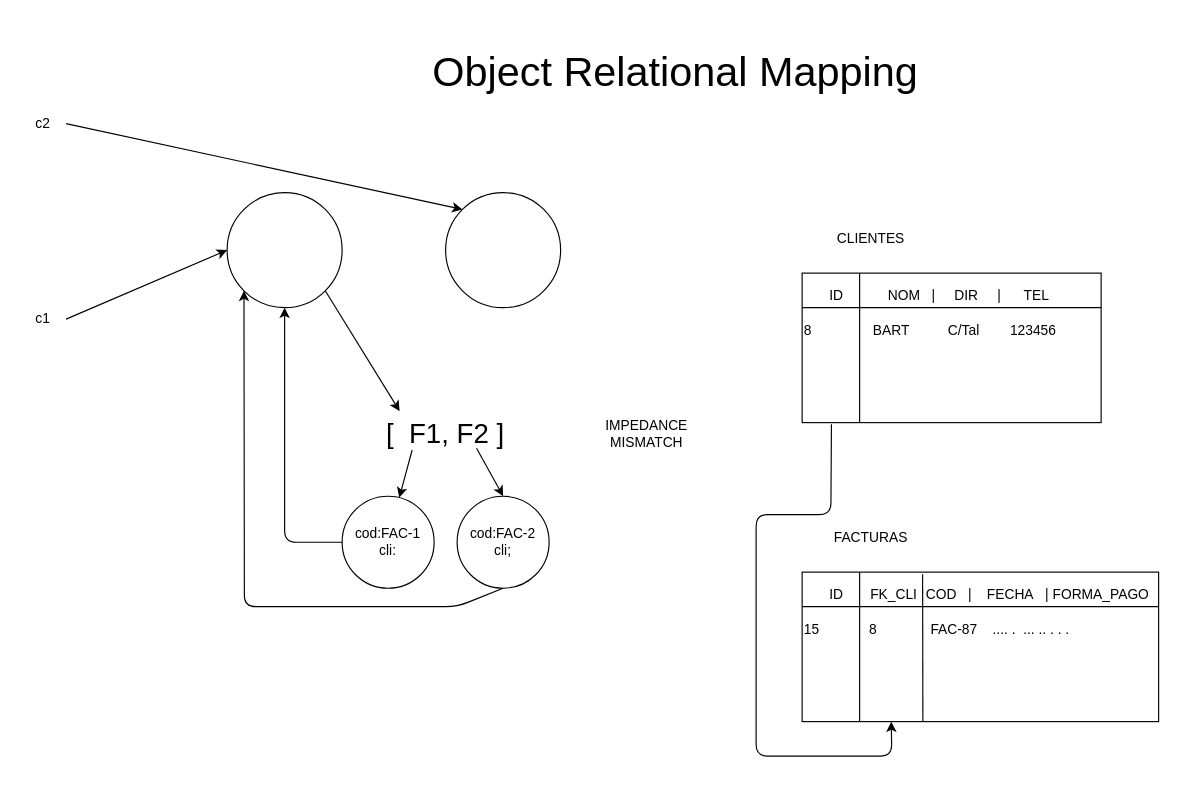
Some shapes in this 1179 by 785 pixel diagram are drawn without their labels. The box of each missing label's shape, as (x1, y1, x2, y2) in pixels:
nom:BART dir tel L<Fac>: (226, 191, 342, 308)
nom:BENDER dir tel: (444, 191, 561, 308)
